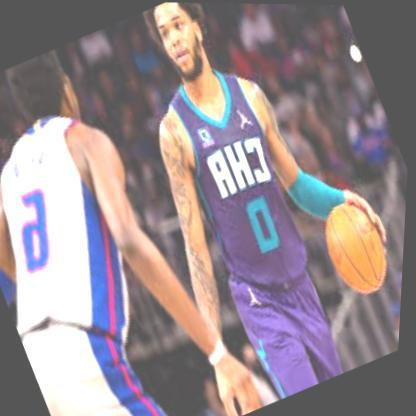basketball: (314, 193, 404, 300)
